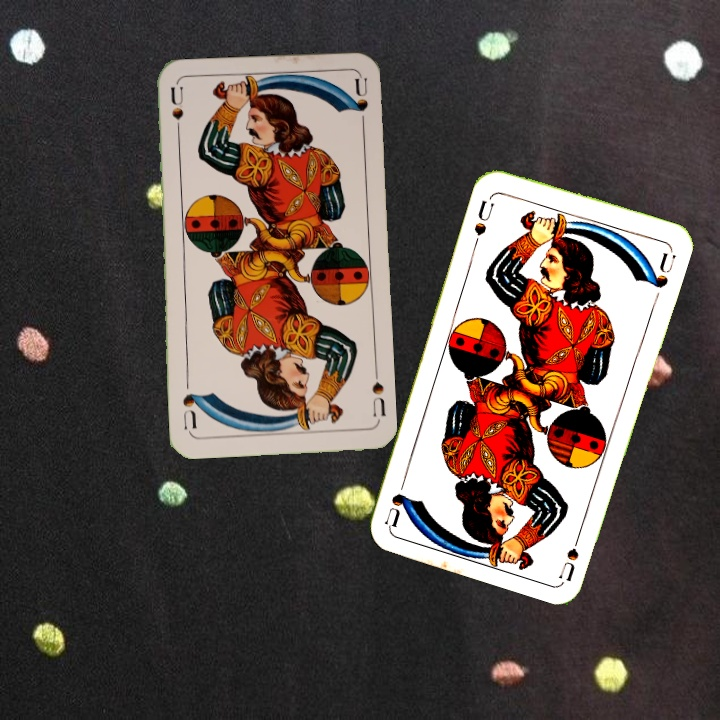SU: (555, 523, 585, 582), (470, 190, 497, 248), (167, 84, 186, 143), (368, 378, 388, 419)
